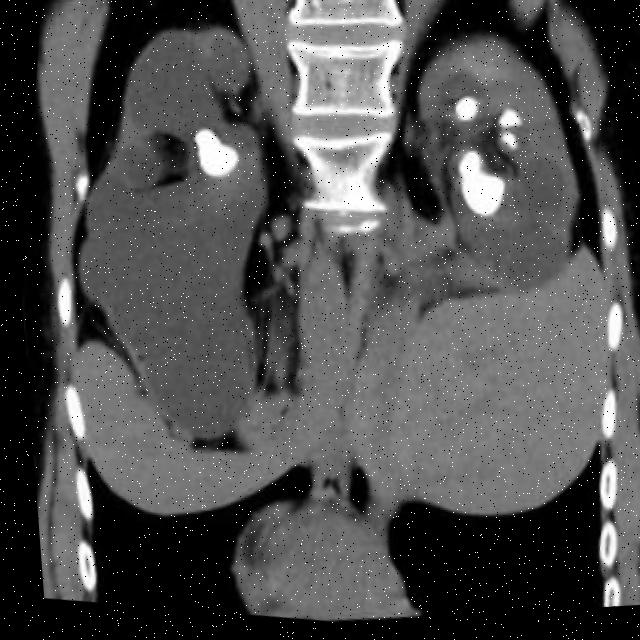Tas_Var: (441, 145, 516, 237), (182, 111, 250, 203), (447, 90, 486, 140), (489, 108, 529, 143), (493, 131, 523, 165)
